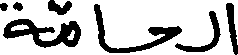ا: (224, 1, 235, 53), (94, 1, 105, 51)
ة: (0, 0, 36, 46)
ح: (147, 23, 182, 51)
ل: (205, 8, 218, 50)
م: (57, 18, 81, 47)
